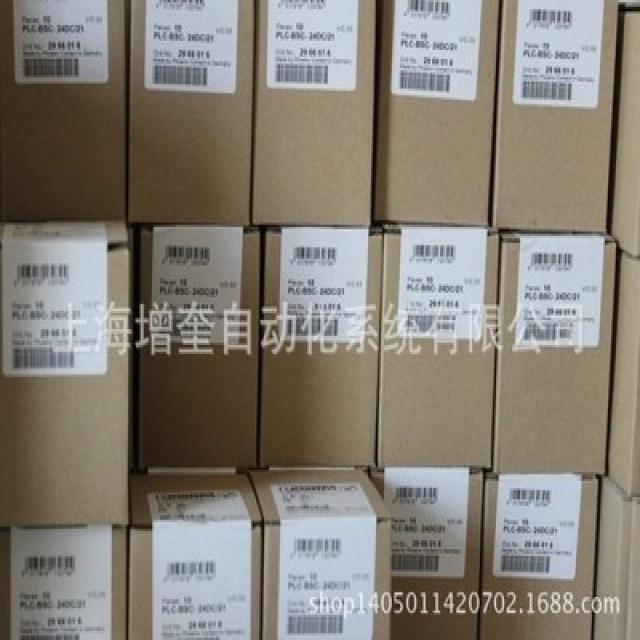box: (0, 219, 129, 528), (258, 221, 383, 467), (491, 230, 616, 474), (376, 221, 499, 468), (139, 224, 259, 468), (491, 0, 617, 232), (128, 0, 256, 226), (372, 0, 499, 225), (250, 0, 375, 224), (0, 0, 125, 220), (249, 470, 391, 638), (128, 473, 262, 638), (478, 467, 598, 638), (371, 469, 483, 638), (0, 525, 128, 638), (606, 11, 638, 258), (590, 474, 638, 638), (607, 247, 638, 497)
